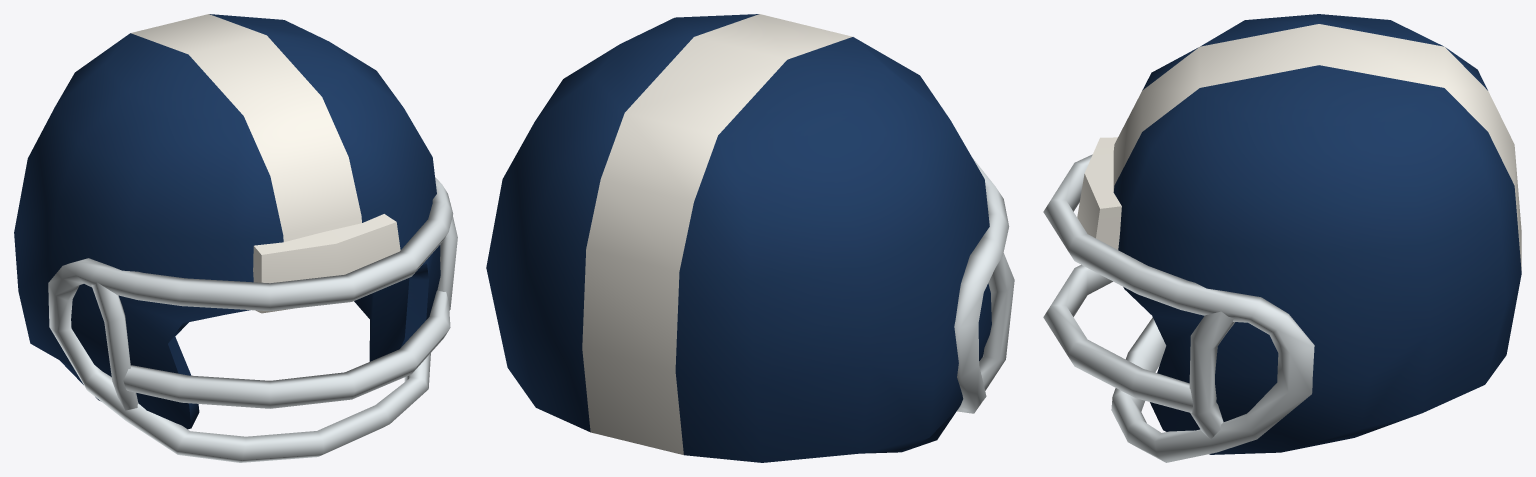
Rendered from Headgear_38.fbx.
3 renders of one model, left to right at view 1: azimuth 30°, elevation 25°; view 2: azimuth 150°, elevation 25°; view 3: azimuth 270°, elevation 25°, orthographic. The views are drawn at different scales.
Visible parts, largest first — view 1: Headgear_38; view 2: Headgear_38; view 3: Headgear_38.
Part boxes in pixels (x1,y1,x2,y2): Headgear_38: (14, 14, 457, 462); Headgear_38: (486, 14, 1014, 462); Headgear_38: (1043, 14, 1521, 462).
Bounding box in the file's own units: 67.2 × 59.59 × 69.18.
